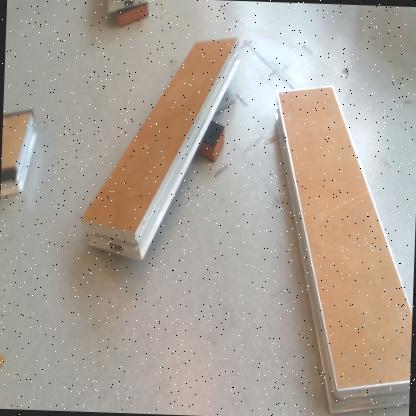Stairs: (275, 86, 413, 415), (81, 37, 242, 262), (1, 113, 38, 201), (107, 1, 148, 14)
